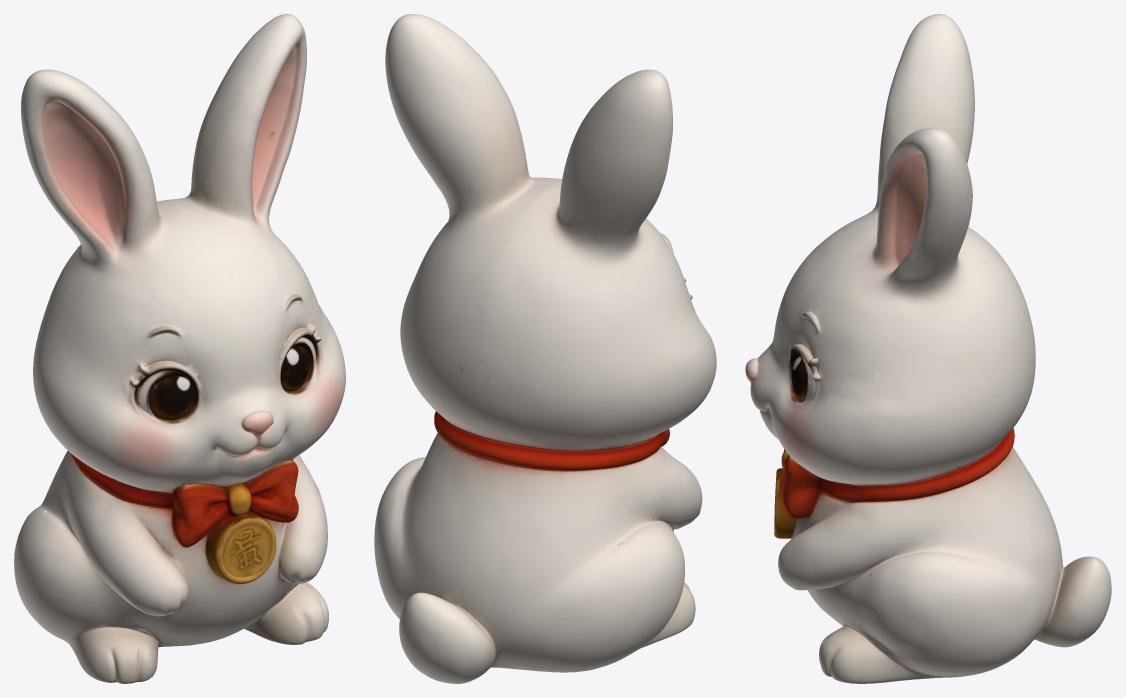
The model's file is hi3d-zodiac-rabbit-web.glb.
3 renders of one model, left to right at view 1: azimuth 30°, elevation 25°; view 2: azimuth 150°, elevation 25°; view 3: azimuth 270°, elevation 25°, orthographic. The views are drawn at different scales.
Visible parts, largest first — view 1: zodiac_rabbit_mesh_01; view 2: zodiac_rabbit_mesh_01; view 3: zodiac_rabbit_mesh_01.
Part boxes in pixels (<box>): zodiac_rabbit_mesh_01: <box>14,14,345,683</box>; zodiac_rabbit_mesh_01: <box>374,14,716,683</box>; zodiac_rabbit_mesh_01: <box>745,14,1111,683</box>.
Bounding box in the file's own units: 0.5139 × 0.9999 × 0.5922.
Materials: 1 (1 with a texture image).
